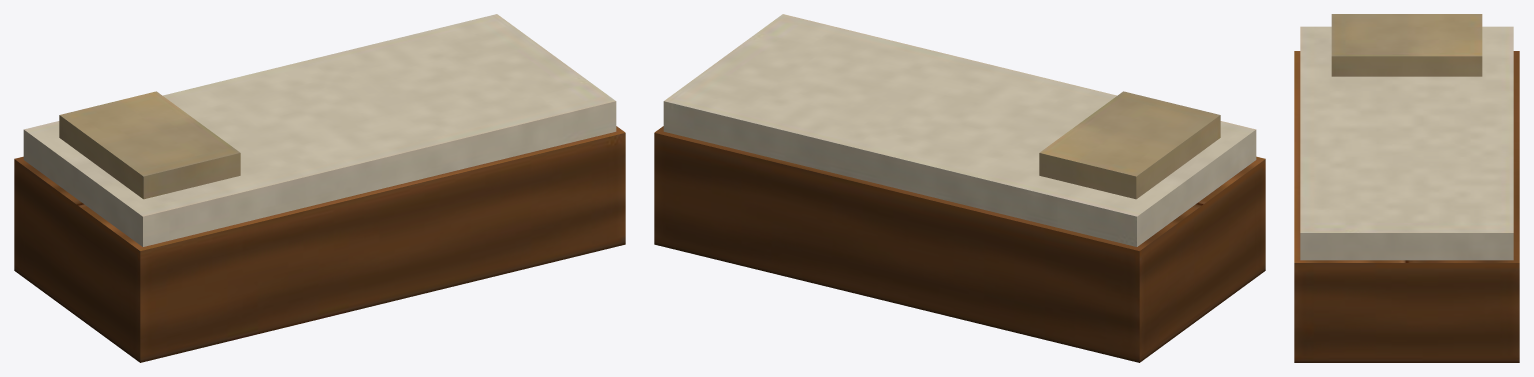
Rendered from cot_bed.glb.
3 views of the same model, side by side, from view 1: azimuth 30°, elevation 25°; view 2: azimuth 150°, elevation 25°; view 3: azimuth 270°, elevation 25° (orthographic). The views are drawn at different scales.
Parts seen in each view (by area): view 1: cot_bed_mesh; view 2: cot_bed_mesh; view 3: cot_bed_mesh.
Part boxes in pixels (x1,y1,x2,y2): cot_bed_mesh: [14, 14, 625, 362]; cot_bed_mesh: [654, 14, 1265, 362]; cot_bed_mesh: [1294, 14, 1519, 362].
Bounding box in the file's own units: 2 × 0.65 × 0.9.
Materials: 1 (1 with a texture image).
